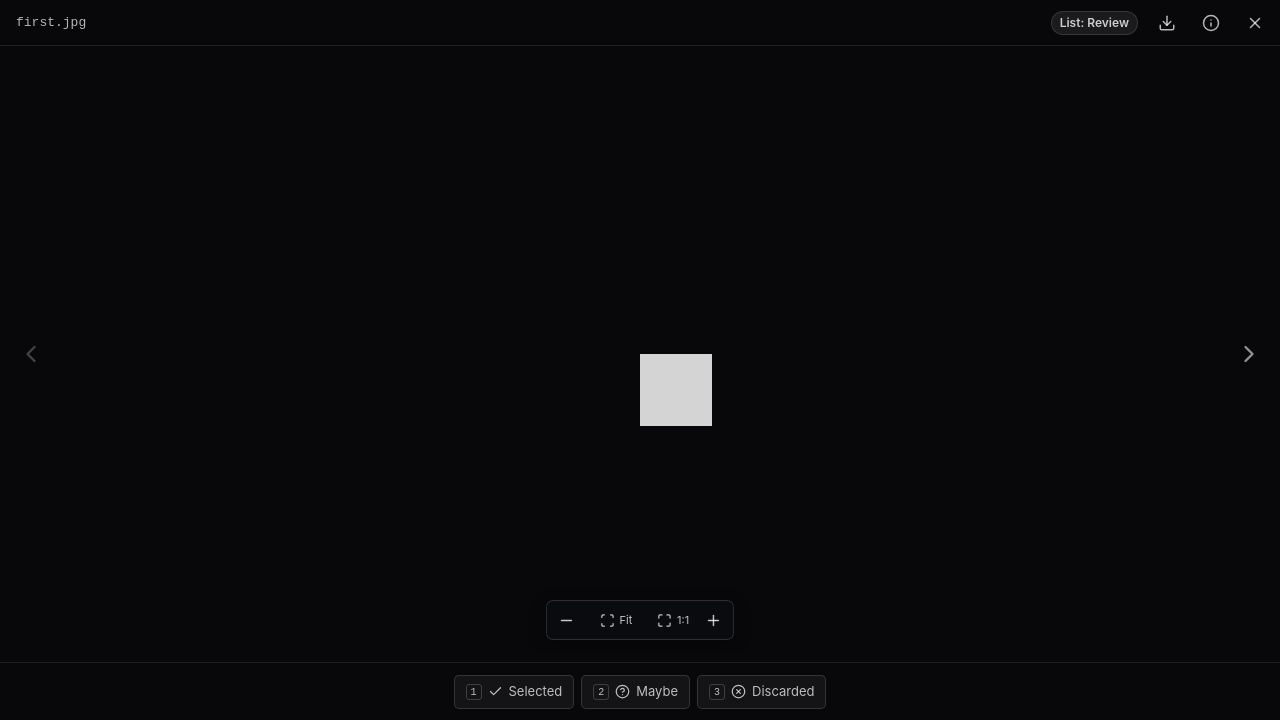
Viewer technical details › keeps the panel open while navigating, ignores stale responses and caches visited files
Press i
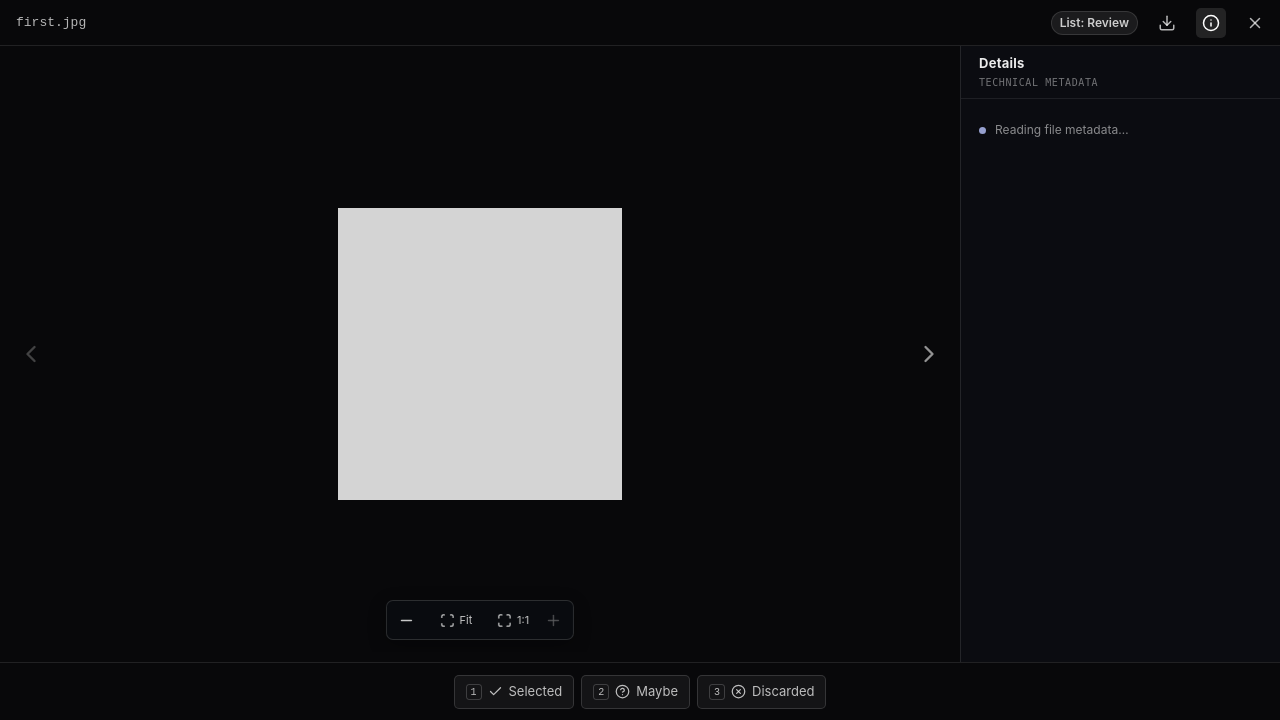
Expected: the text "Reading file metadata…" is shown, left=979, top=122, right=1128, bottom=137
Click the button named "Next".
click(929, 354)  # box left=898, top=46, right=960, bottom=662
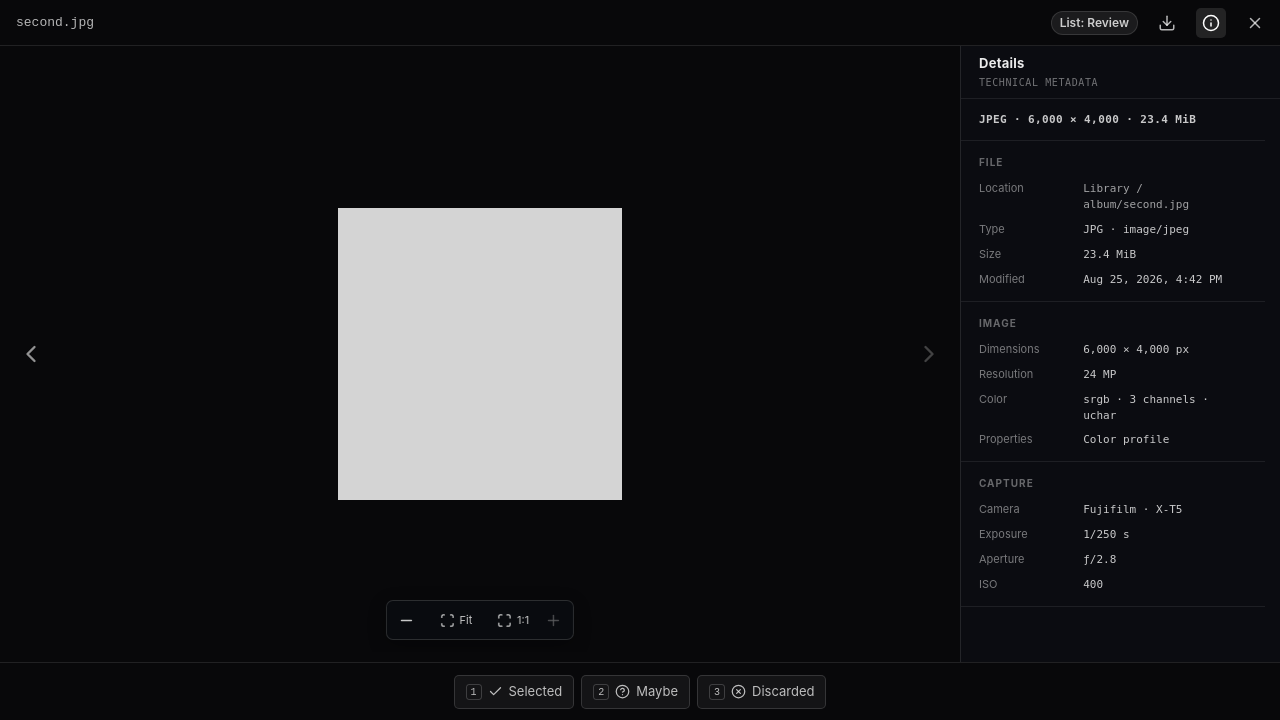
Expected: the text "Library / album/first.jpg" is not shown
Expected: the button named "Hide details" is shown, left=1196, top=8, right=1226, bottom=38
Expected: the text "Library / album/second.jpg" is shown, left=1083, top=182, right=1189, bottom=211
Click the button named "Previous".
click(31, 354)  # box left=0, top=46, right=62, bottom=662
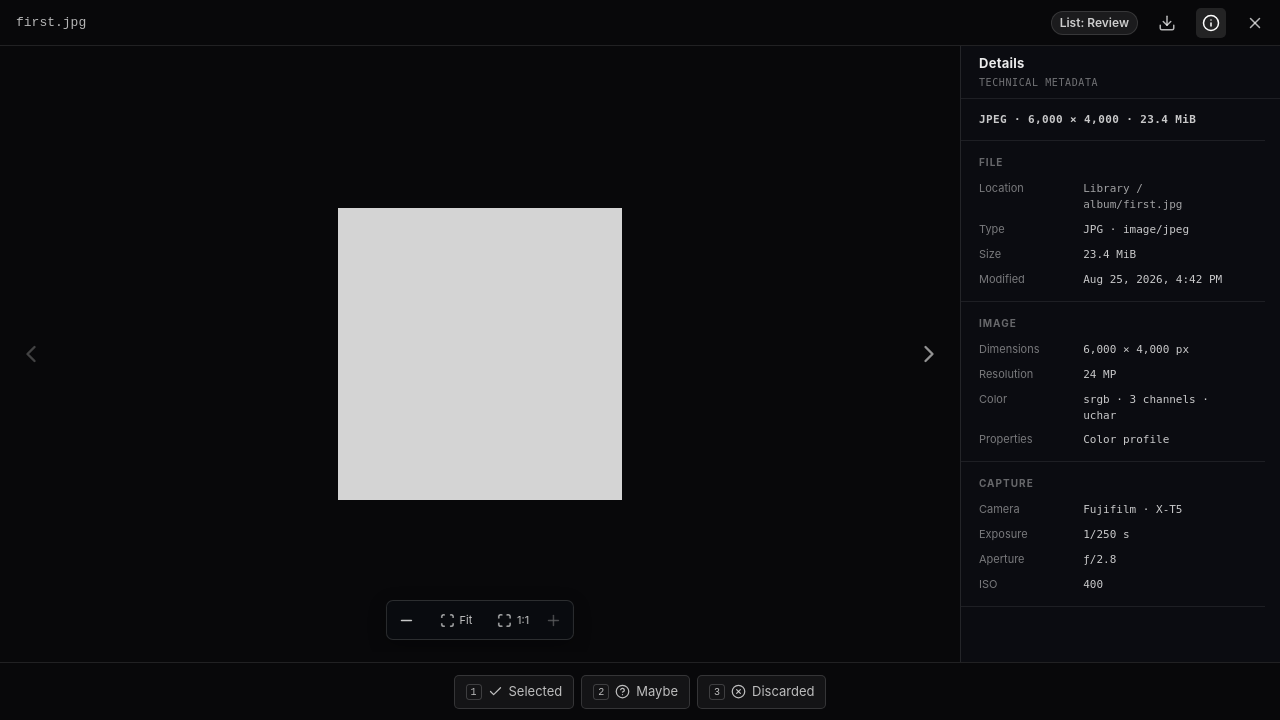
Expected: the text "Library / album/first.jpg" is shown, left=1083, top=182, right=1182, bottom=211
Click the button named "Next".
click(929, 354)  # box left=898, top=46, right=960, bottom=662
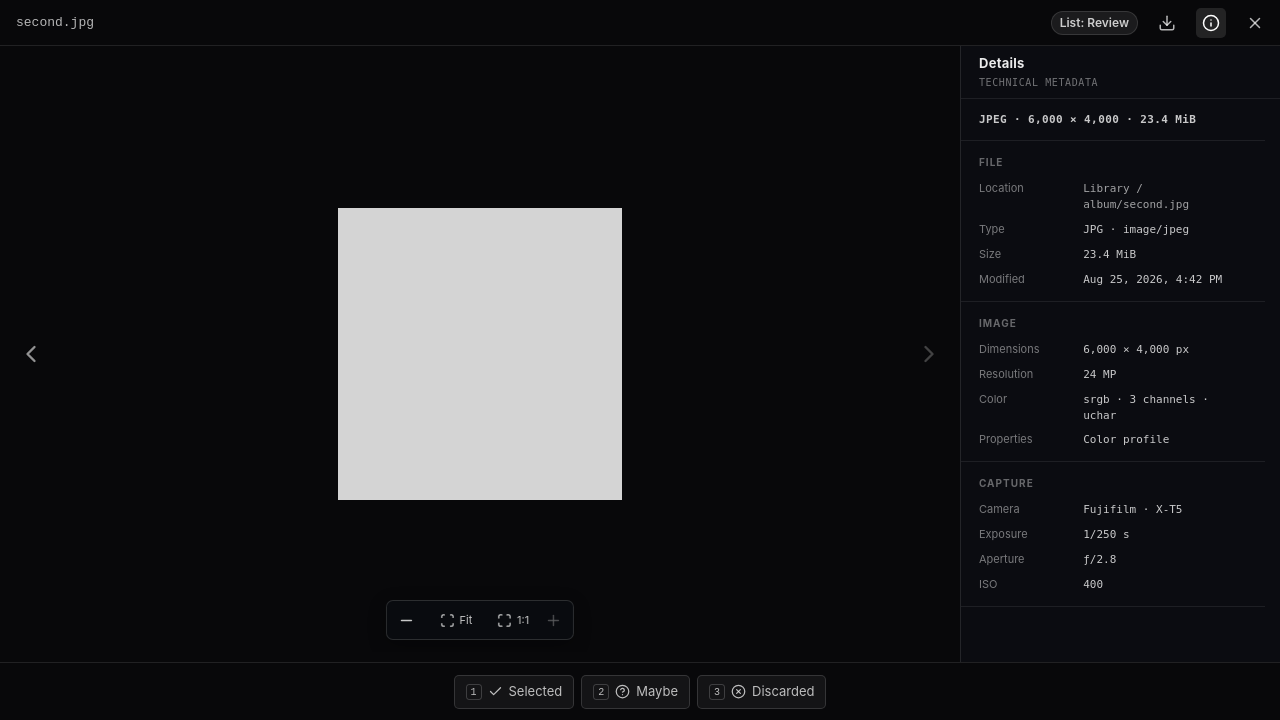
Expected: the text "Library / album/second.jpg" is shown, left=1083, top=182, right=1189, bottom=211
